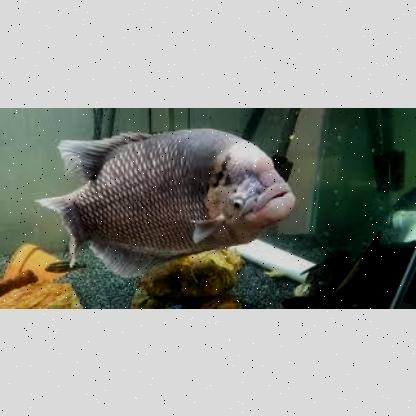gurame: (40, 124, 298, 272)
